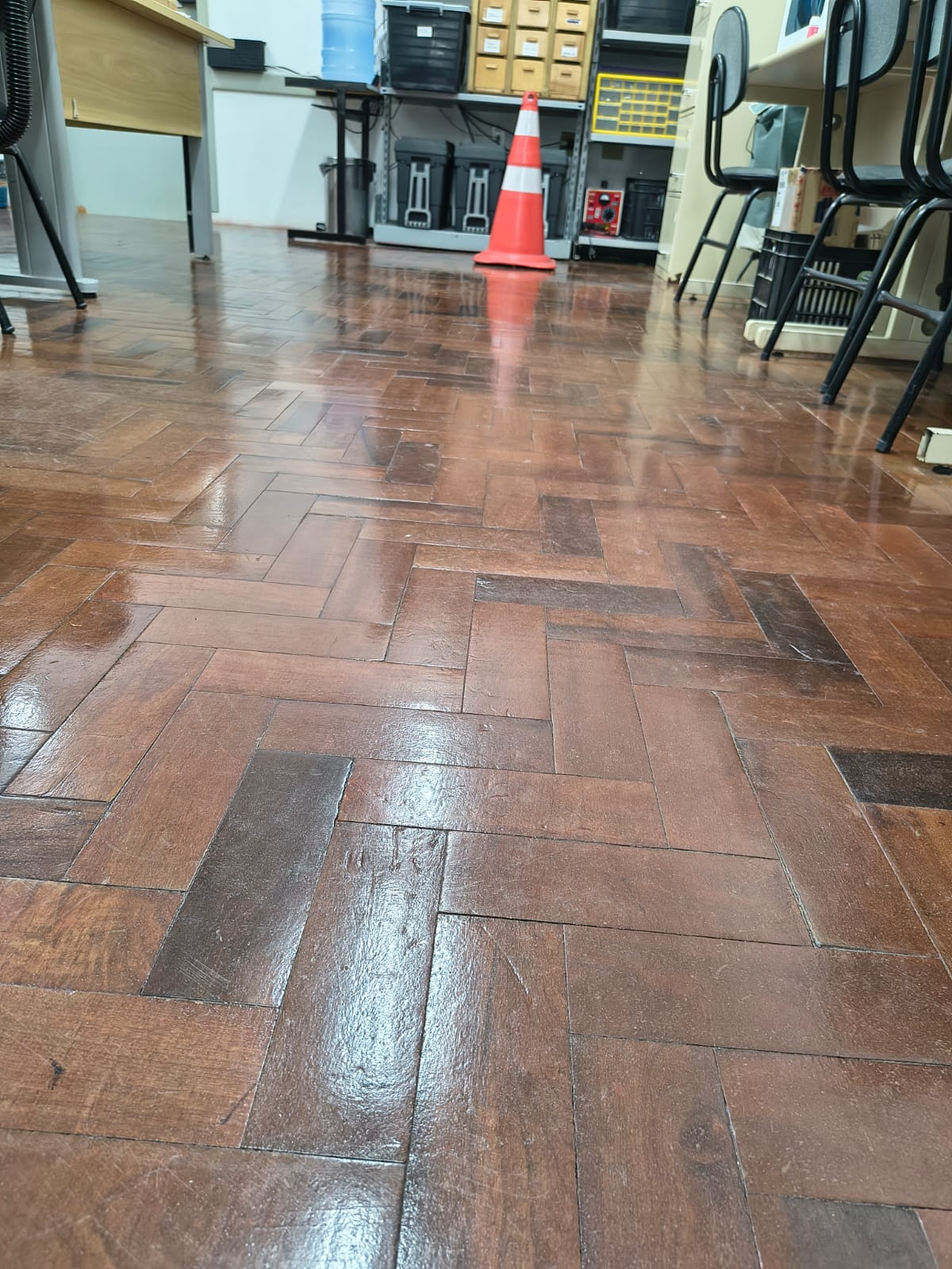cone: (481, 93, 559, 273)
